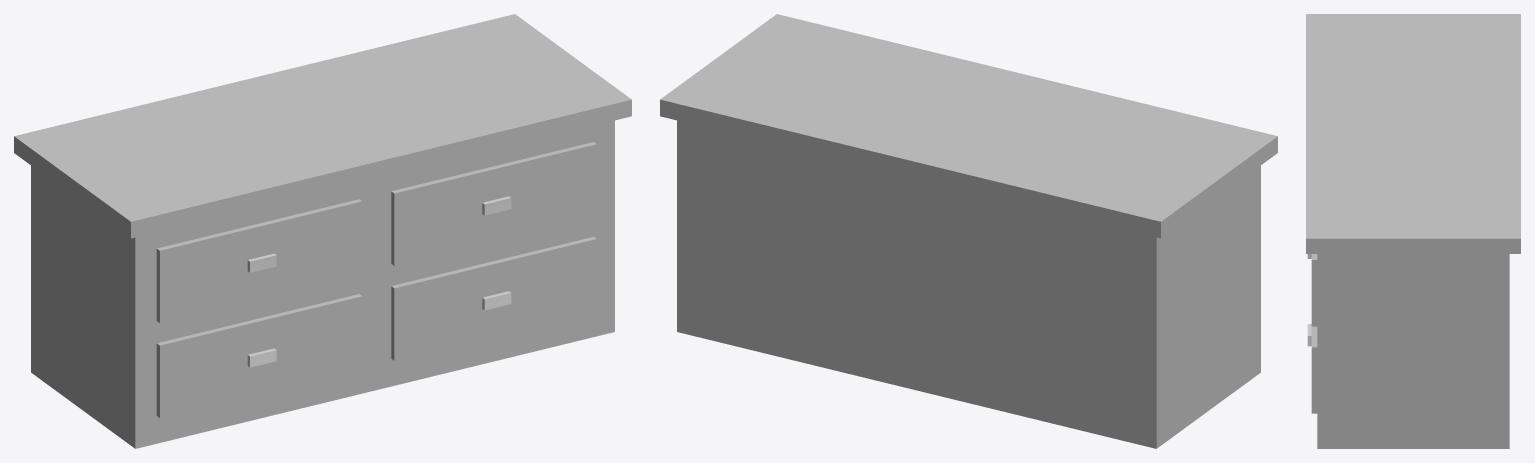
File: dresser.obj
3 renders of one model, left to right at view 1: azimuth 30°, elevation 25°; view 2: azimuth 150°, elevation 25°; view 3: azimuth 270°, elevation 25°, orthographic. The views are drawn at different scales.
Visible parts, largest first — view 1: dresser; view 2: dresser; view 3: dresser.
Boxes of the visible parts, bbox=[...] form: dresser: bbox=[14, 14, 631, 448]; dresser: bbox=[660, 14, 1277, 448]; dresser: bbox=[1306, 14, 1520, 448].
Bounding box in the file's own units: 1.88 × 0.84 × 0.76.
